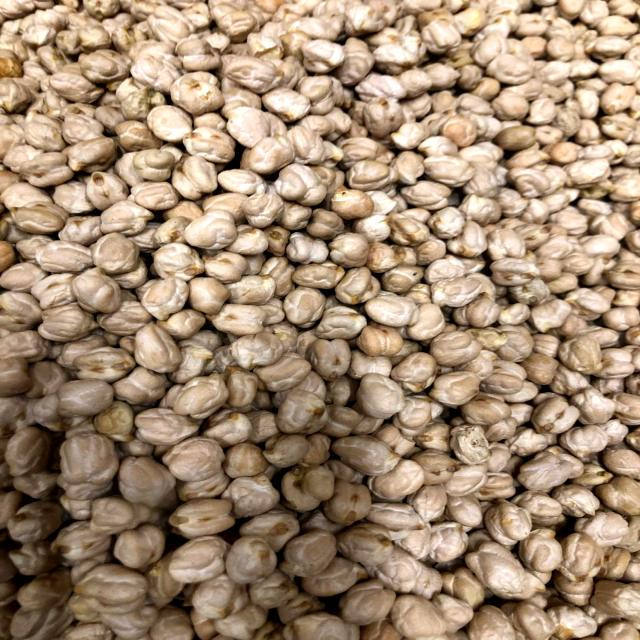chickpeas: (225, 377, 558, 620), (44, 102, 349, 345)
